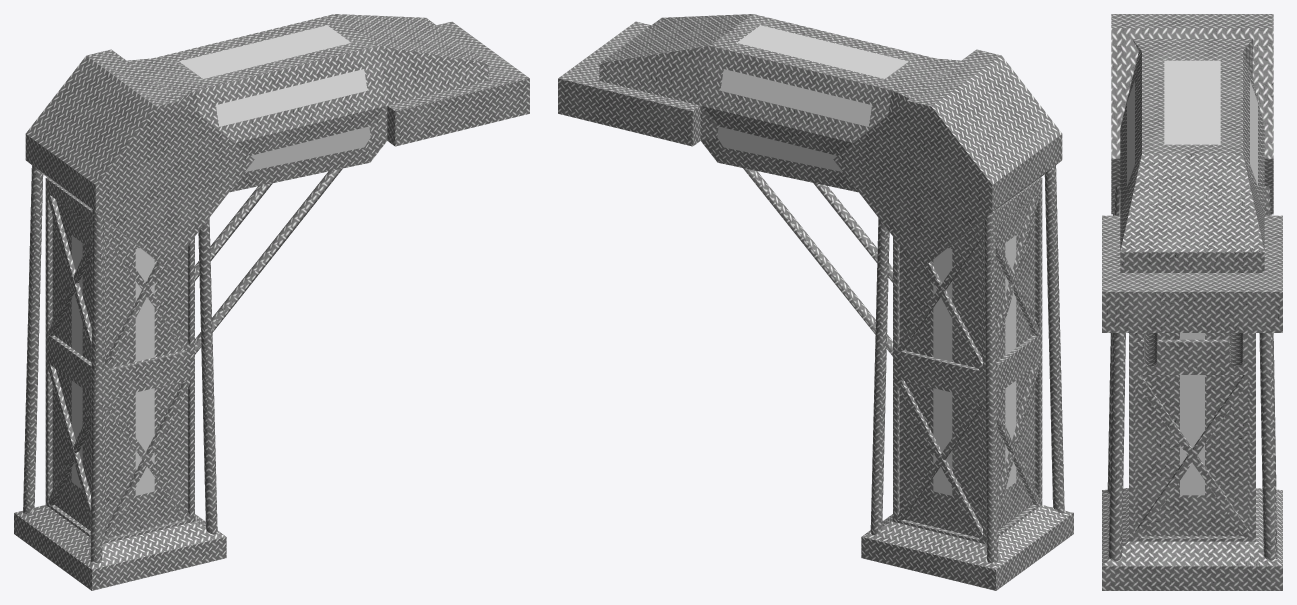
File: Big Dropper.fbx
The picture shows the model from 3 angles, left to right: view 1: azimuth 30°, elevation 25°; view 2: azimuth 150°, elevation 25°; view 3: azimuth 270°, elevation 25°; orthographic projection. The views are drawn at different scales.
Visible parts, largest first — view 1: BigDropper; view 2: BigDropper; view 3: BigDropper.
Boxes of the visible parts, x1,y1,x2,y2 form: BigDropper: (14,14,529,590); BigDropper: (558,14,1073,590); BigDropper: (1102,14,1282,590).
Size of the model in its own units: 455 by 461 by 140.
